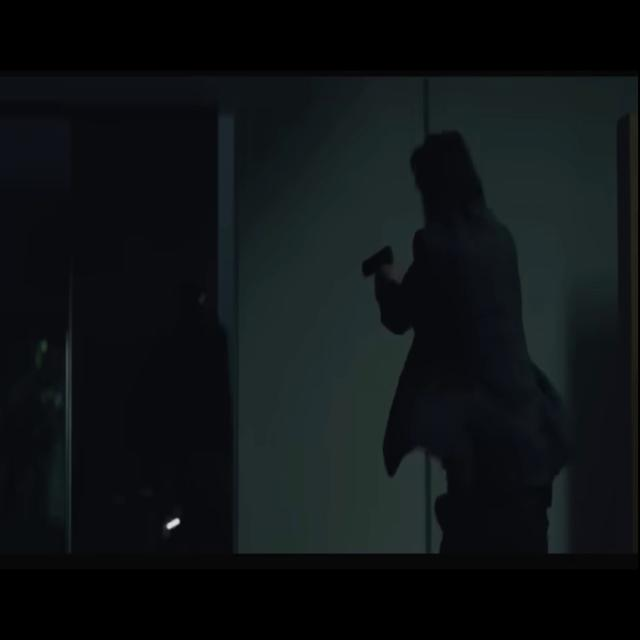weapons: (356, 228, 402, 322)
